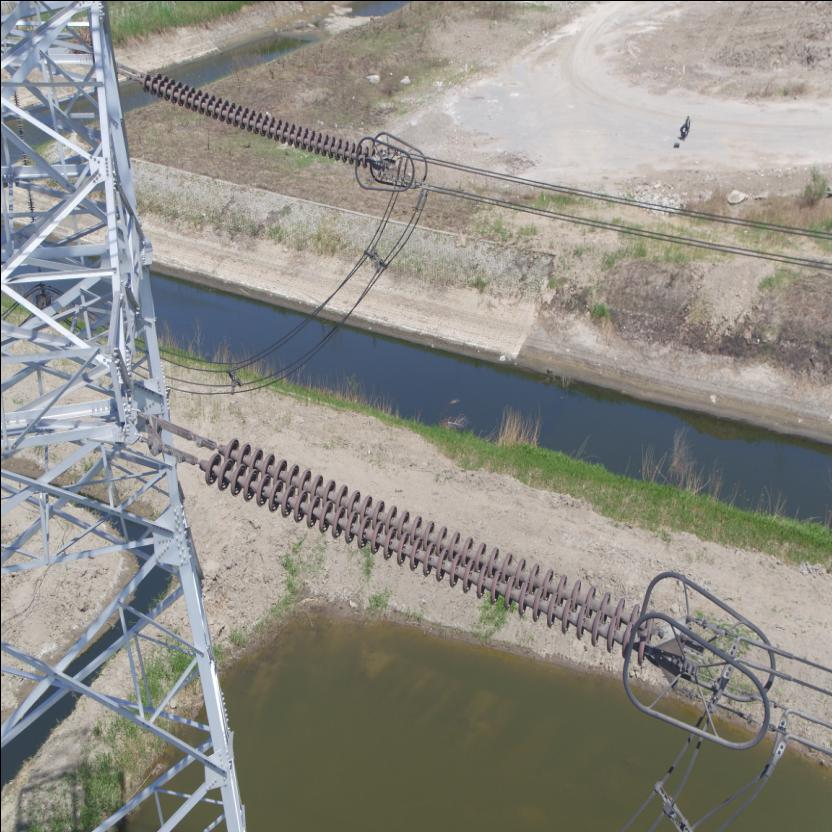insulator: (187, 425, 665, 664), (123, 60, 372, 166)
